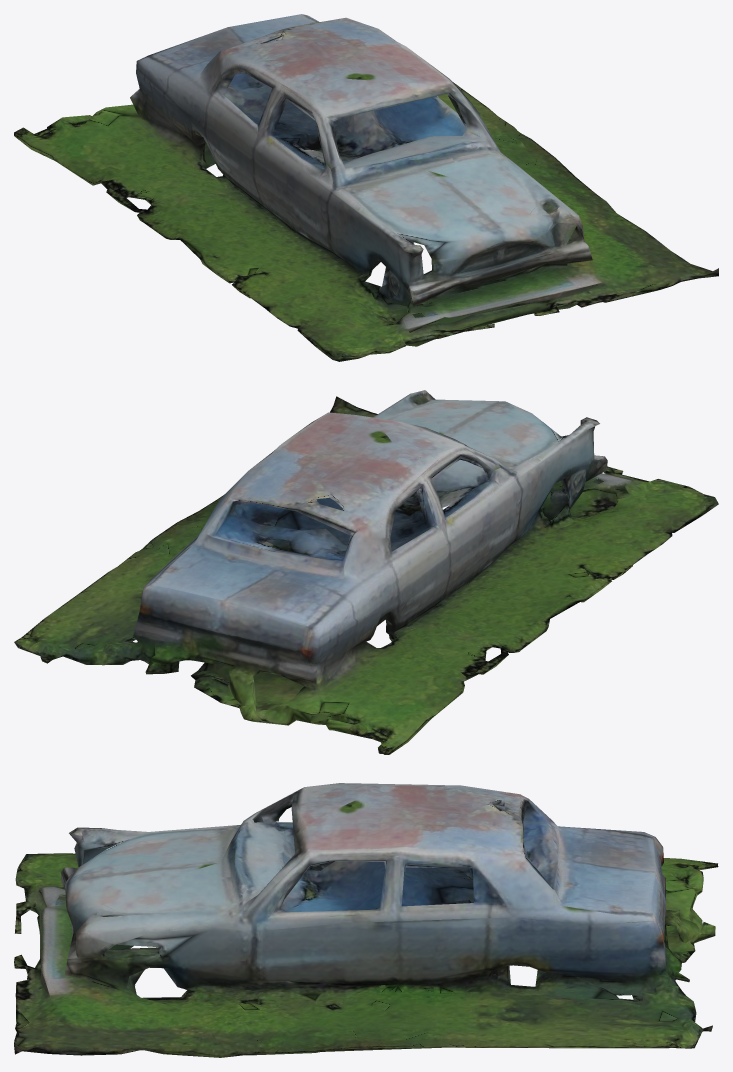
The model's file is car_wreck.glb.
3 renders of one model, top to bottom at view 1: azimuth 30°, elevation 25°; view 2: azimuth 150°, elevation 25°; view 3: azimuth 270°, elevation 25°, orthographic. The views are drawn at different scales.
Parts seen in each view (by area): view 1: car_wreck; view 2: car_wreck; view 3: car_wreck.
Boxes of the visible parts, bbox=[...] form: car_wreck: bbox=[14, 14, 718, 361]; car_wreck: bbox=[14, 390, 718, 754]; car_wreck: bbox=[14, 783, 718, 1057].
Bounding box in the file's own units: 0.6639 × 0.2392 × 0.9983.
1 material, 1 textured.
